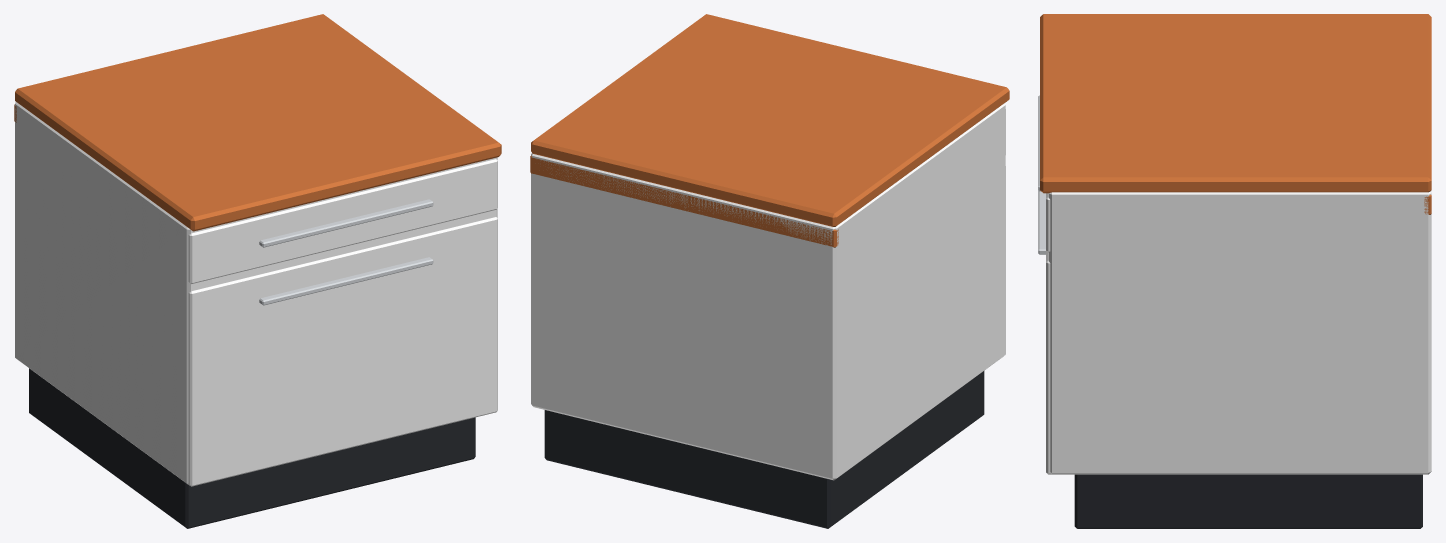
File: kitchen-base-corner.glb
3 views of the same model, side by side, from view 1: azimuth 30°, elevation 25°; view 2: azimuth 150°, elevation 25°; view 3: azimuth 270°, elevation 25° (orthographic). The views are drawn at different scales.
Parts seen in each view (by area): view 1: kitchen-base-corner.tint, kitchen-base-corner.accent, kitchen-base-corner.graphite, kitchen-base-corner.chrome; view 2: kitchen-base-corner.tint, kitchen-base-corner.accent, kitchen-base-corner.graphite; view 3: kitchen-base-corner.tint, kitchen-base-corner.accent, kitchen-base-corner.graphite, kitchen-base-corner.chrome.
Boxes of the visible parts, x1,y1,x2,y2 form: kitchen-base-corner.tint: (15,102,497,486); kitchen-base-corner.accent: (14,14,501,231); kitchen-base-corner.graphite: (29,368,475,528); kitchen-base-corner.chrome: (259,199,433,305); kitchen-base-corner.tint: (531,103,1005,480); kitchen-base-corner.accent: (530,14,1009,247); kitchen-base-corner.graphite: (544,371,984,528); kitchen-base-corner.tint: (1046,190,1431,474); kitchen-base-corner.accent: (1040,14,1431,214); kitchen-base-corner.graphite: (1074,474,1422,528); kitchen-base-corner.chrome: (1038,95,1045,254).
Size of the model in its own units: 0.9 by 0.9 by 0.9.
